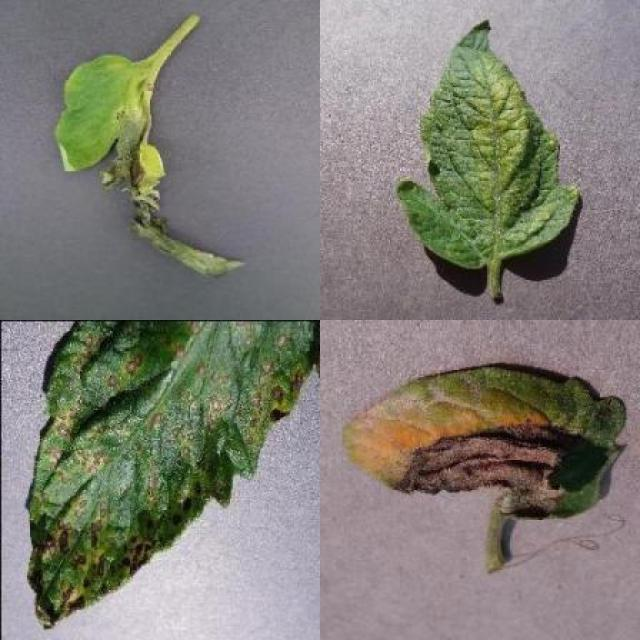Late Blight: (342, 365, 627, 521), (53, 52, 248, 278)
Septoria: (25, 320, 319, 627)
Spider Mites: (398, 19, 582, 270)
